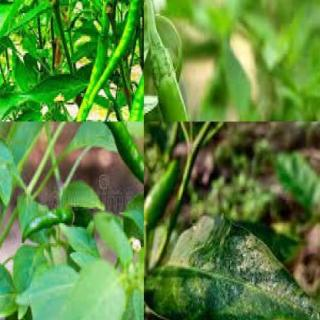green_chilli: (82, 0, 143, 121), (49, 122, 143, 193), (70, 1, 112, 120), (150, 72, 228, 121), (143, 158, 184, 228), (20, 203, 76, 243), (126, 30, 143, 121)
